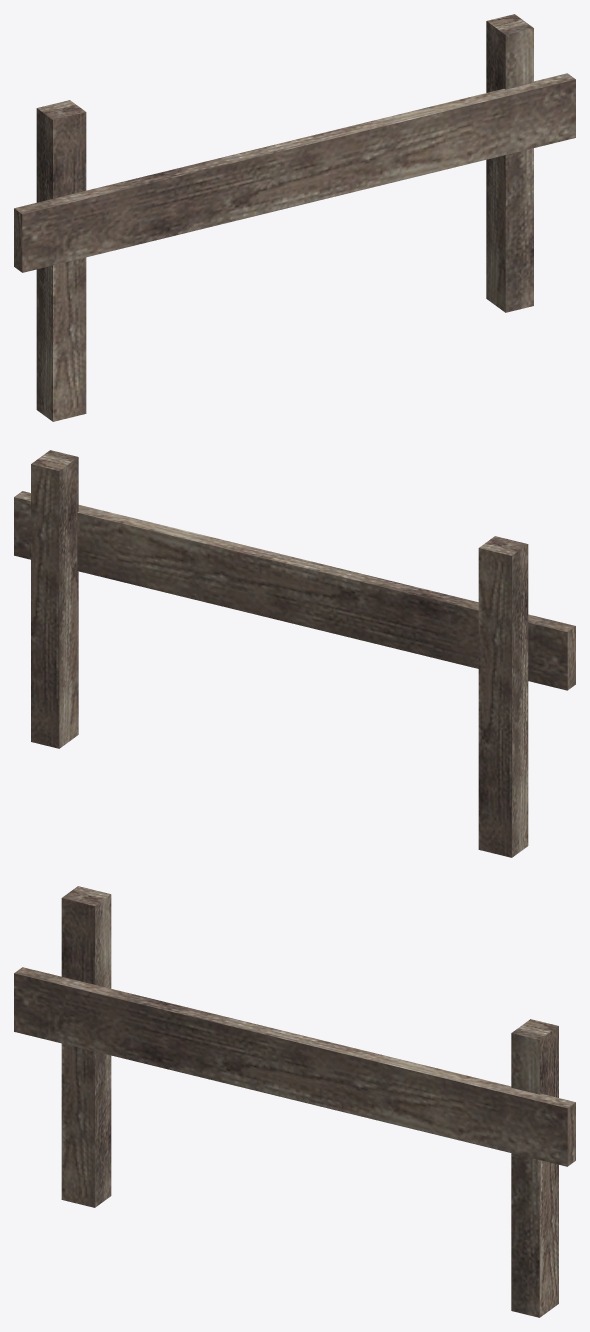
Rendered from Prop_Handrail03.glb.
3 views of the same model, one above another, from view 1: azimuth 30°, elevation 25°; view 2: azimuth 150°, elevation 25°; view 3: azimuth 330°, elevation 25° (orthographic).
Visible parts, largest first — view 1: xiutz_handrail03; view 2: xiutz_handrail03; view 3: xiutz_handrail03.
Part boxes in pixels (bbox=[...]): xiutz_handrail03: bbox=[14, 14, 575, 421]; xiutz_handrail03: bbox=[14, 450, 575, 857]; xiutz_handrail03: bbox=[14, 886, 575, 1317].
Bounding box in the file's own units: 2.92 × 1.52 × 0.2407.
1 material, 1 textured.
